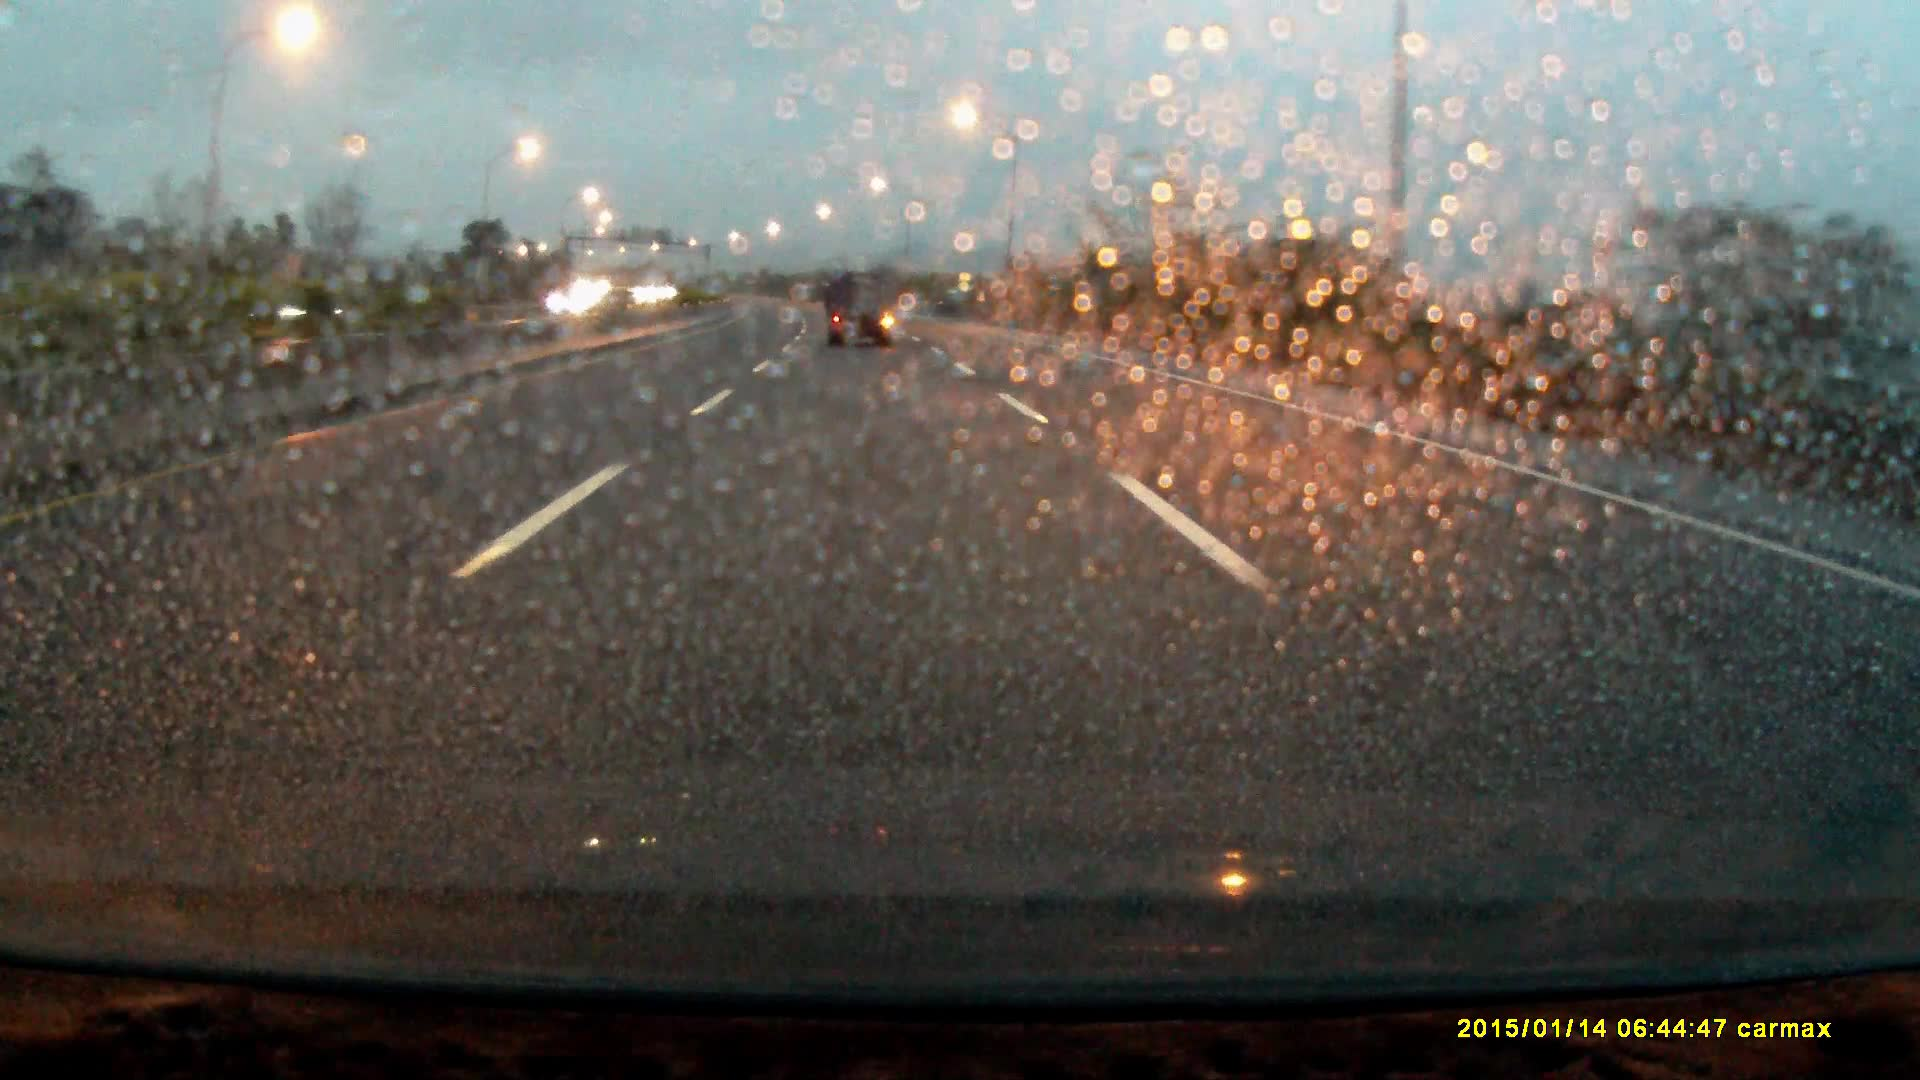vehicle: (825, 277, 897, 351), (549, 287, 607, 316)
